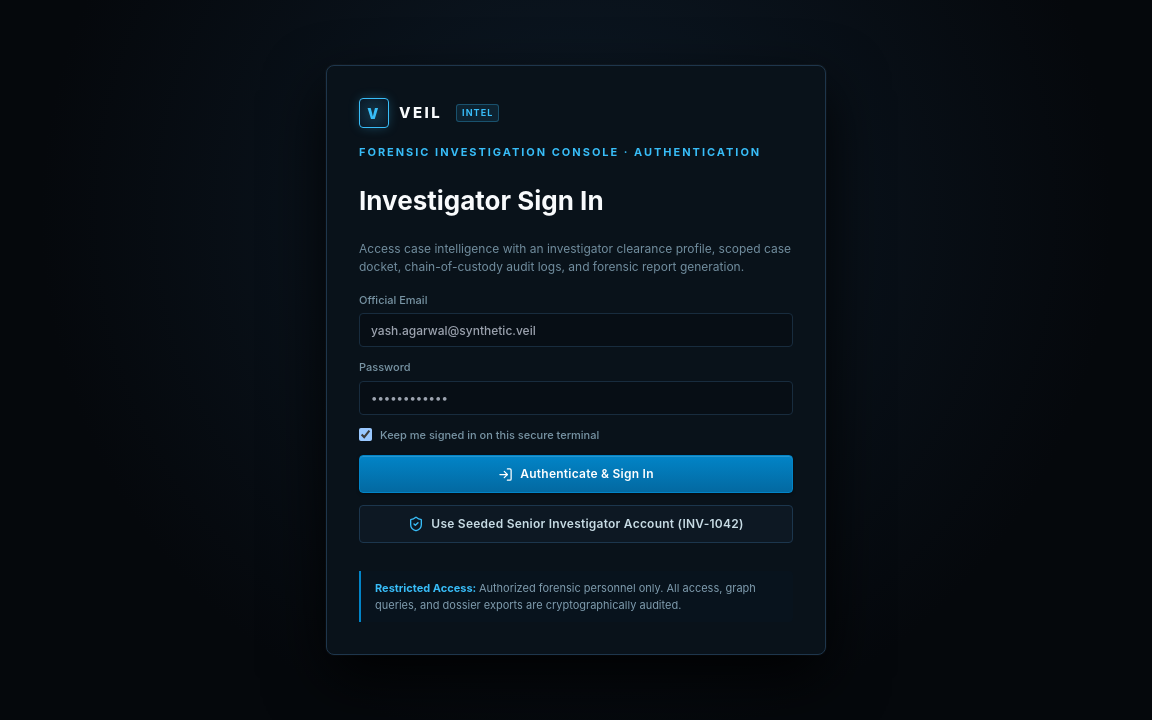
Test: unified investigation shell › renders the account-backed dashboard and primary navigation
Click the button "Use Seeded Senior Investigator Account (INV-1042)": coordinates (576, 524) [359, 505, 793, 543]
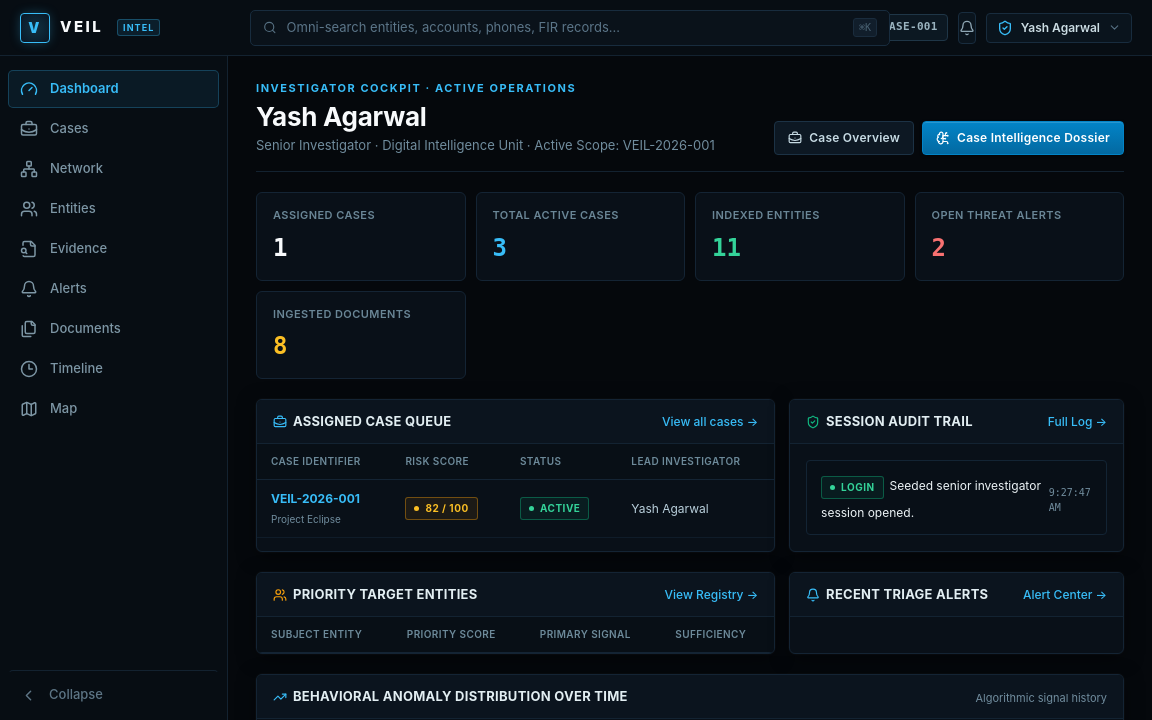
Now the heading "Yash Agarwal" is shown, box [256, 100, 427, 132]
Now the text "11" is shown, box [712, 234, 741, 262]
